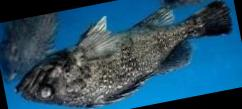fish: (14, 0, 233, 108)
